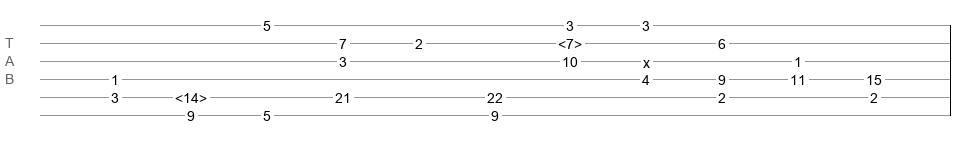1: (111, 72, 119, 82), (794, 54, 802, 64)
10: (562, 54, 578, 64)
11: (790, 72, 806, 82)
15: (866, 72, 882, 82)
2: (415, 36, 423, 46), (718, 90, 726, 100), (870, 90, 878, 100)
21: (335, 90, 351, 100)
22: (487, 90, 503, 100)
3: (111, 90, 119, 100), (339, 54, 347, 64), (566, 18, 574, 28), (642, 18, 650, 28)
4: (642, 72, 650, 82)
5: (263, 18, 271, 28), (263, 108, 271, 118)
6: (718, 36, 726, 46)
7: (339, 36, 347, 46)
9: (187, 108, 195, 118), (491, 108, 499, 118), (718, 72, 726, 82)
harmonic: (175, 90, 207, 100), (558, 36, 582, 46)
x: (643, 55, 650, 63)
